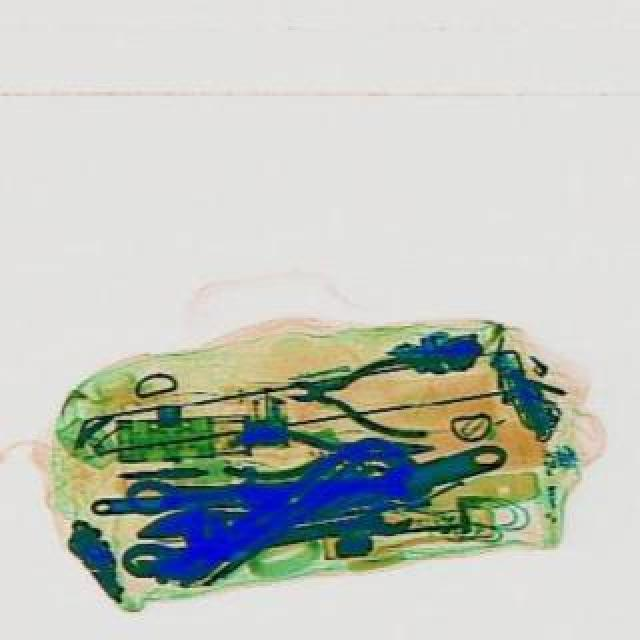scissors: (266, 496, 414, 552)
wrench: (282, 346, 430, 438), (218, 418, 430, 482)
